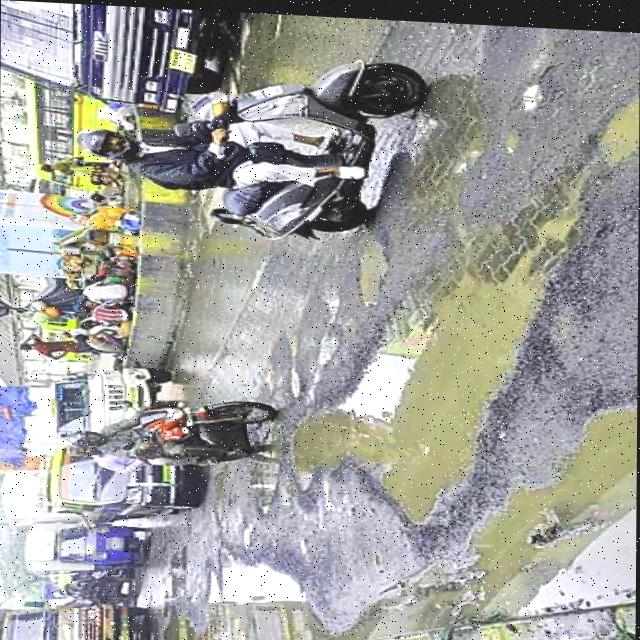Pothole: (288, 304, 501, 522), (549, 390, 638, 555), (209, 556, 308, 640), (571, 45, 640, 165), (344, 232, 395, 298), (158, 553, 192, 591), (155, 617, 204, 640)
